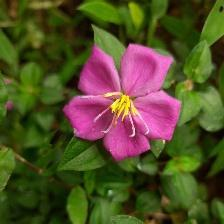malabar melastome: (64, 41, 186, 165)
